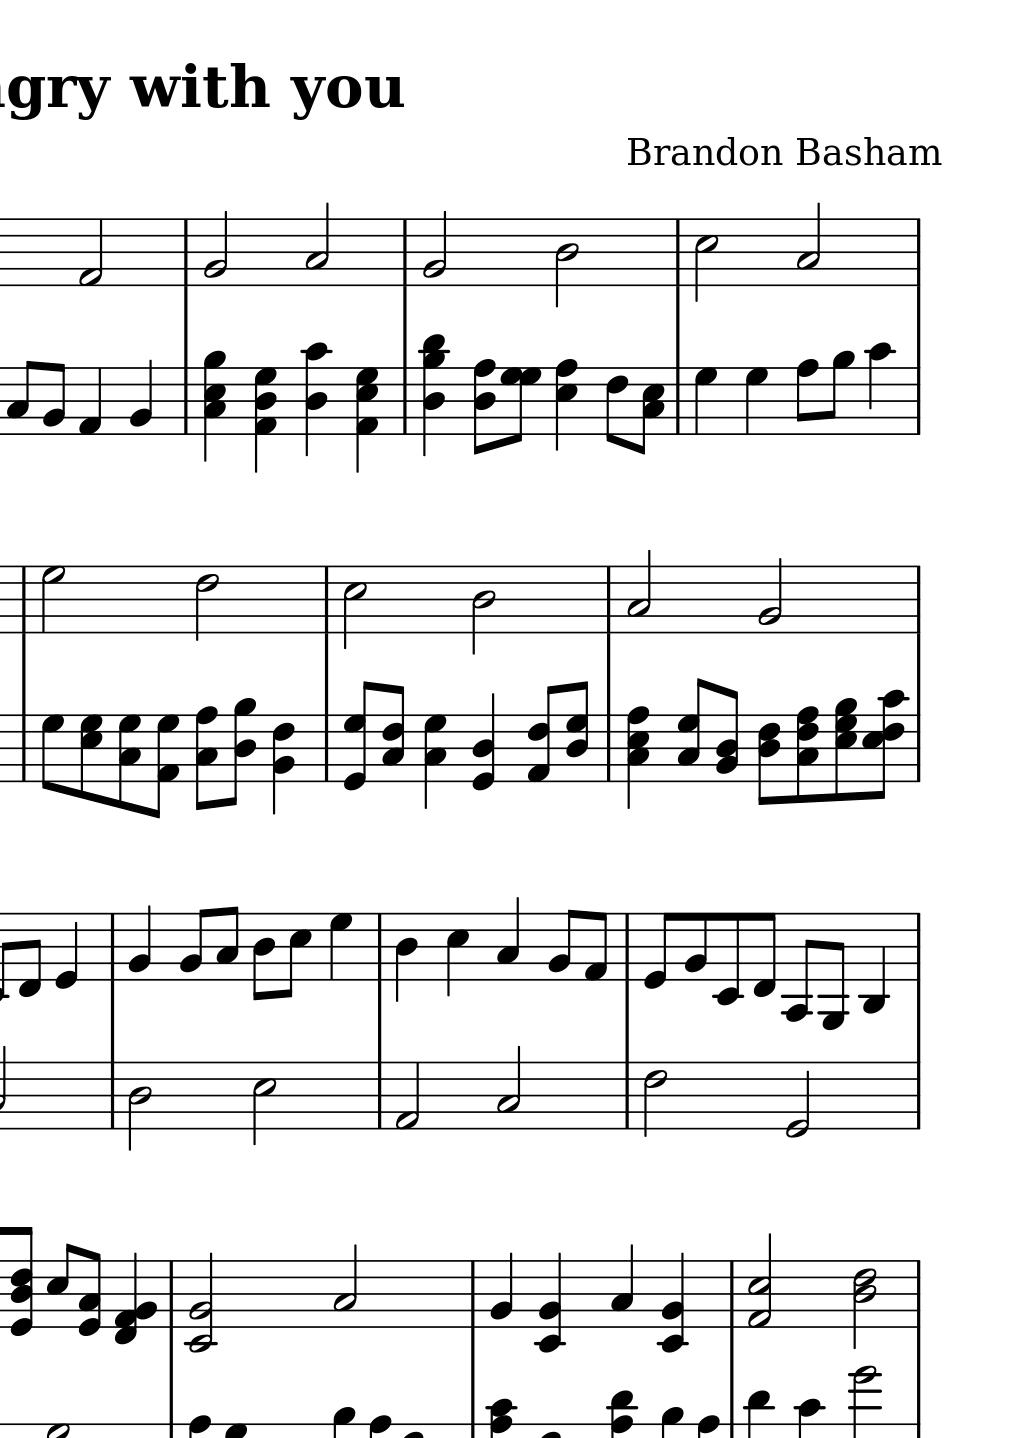2_-2_2: (183, 1251, 219, 1353)
2_0: (784, 1060, 811, 1138)
2_1: (394, 1060, 422, 1133), (77, 217, 105, 288)
2_1_5: (746, 1233, 775, 1329)
2_2: (794, 202, 821, 285), (201, 209, 230, 288), (422, 209, 449, 288), (756, 556, 784, 634)
2_3: (303, 201, 331, 287), (624, 549, 653, 635), (330, 1244, 359, 1329), (495, 1045, 522, 1130)
2_4: (553, 216, 580, 308), (470, 566, 497, 655), (125, 1062, 151, 1153)
2_4_6: (852, 1259, 877, 1348)
2_5: (250, 1060, 277, 1146), (341, 566, 367, 651), (693, 217, 719, 300)
2_6: (642, 1061, 666, 1138), (194, 566, 218, 641)
2_7: (39, 563, 65, 635)
4_-2_2: (533, 1250, 568, 1352), (656, 1250, 691, 1352)
4_0: (53, 911, 79, 991)
4_0_4: (471, 694, 497, 792)
4_1: (75, 365, 103, 438)
4_2: (127, 358, 154, 436), (125, 904, 153, 981), (489, 1251, 515, 1329)
4_3: (608, 1242, 635, 1329), (494, 896, 520, 981)
4_3_7: (422, 712, 447, 809)
4_4: (393, 912, 418, 1003)
4_4_10: (300, 341, 332, 455)
4_5: (444, 911, 470, 998)
4_5_8: (554, 358, 580, 452)
4_7: (327, 911, 352, 983), (692, 366, 718, 437), (743, 366, 768, 436)
4_th: (114, 1250, 158, 1347), (419, 331, 453, 455), (354, 364, 381, 472), (203, 348, 228, 458), (251, 364, 275, 468)
8_-1: (750, 911, 776, 1001), (17, 911, 43, 1000)
8_-2: (711, 909, 743, 1007)
8_-3: (859, 911, 887, 1016)
8_-4: (781, 910, 814, 1025)
8_-5: (817, 911, 849, 1032)
8_0: (642, 910, 672, 991)
8_0_3: (77, 1245, 103, 1337)
8_0_7: (343, 680, 375, 791)
8_1: (582, 911, 608, 984)
8_10: (866, 340, 892, 438)
8_1_6: (527, 684, 559, 783)
8_1_7: (150, 713, 181, 820)
8_2: (178, 907, 208, 981), (546, 908, 576, 981), (41, 361, 66, 437), (682, 911, 708, 983)
8_2_4: (717, 685, 741, 784)
8_3: (6, 358, 35, 437), (214, 905, 238, 983)
8_3_5: (636, 366, 666, 455)
8_3_6: (382, 683, 406, 783)
8_3_7: (677, 676, 708, 784), (117, 713, 143, 813)
8_3_8: (193, 705, 219, 810)
8_4: (251, 911, 275, 1003)
8_4_6: (757, 713, 779, 808)
8_4_7: (565, 680, 590, 784)
8_4_8: (472, 359, 497, 455)
8_4_9: (226, 698, 256, 806)
8_5: (280, 911, 311, 1000), (43, 1240, 74, 1329)
8_5_7: (79, 714, 105, 804)
8_6: (604, 365, 628, 449)
8_7: (39, 713, 63, 795)
8_8: (794, 358, 818, 436)
8_9: (823, 350, 854, 436)
8_th: (10, 1223, 37, 1342), (831, 698, 857, 801), (794, 703, 819, 805)
Single_barline: (600, 715, 617, 781), (617, 914, 635, 980), (15, 566, 32, 634), (619, 1061, 635, 1129), (103, 914, 120, 981), (371, 914, 387, 981), (164, 1260, 181, 1327), (397, 367, 414, 433), (669, 367, 686, 433), (103, 1062, 120, 1128), (464, 1261, 481, 1327), (15, 713, 31, 782), (670, 219, 686, 287), (909, 1260, 925, 1328), (372, 1062, 387, 1129), (909, 1062, 925, 1129), (723, 1261, 739, 1328), (178, 367, 194, 433), (910, 566, 926, 632), (319, 567, 335, 633), (397, 220, 413, 285), (601, 567, 616, 632), (318, 715, 333, 780), (911, 715, 926, 784), (910, 219, 925, 286), (910, 367, 925, 435), (178, 220, 193, 286), (911, 913, 925, 981)
